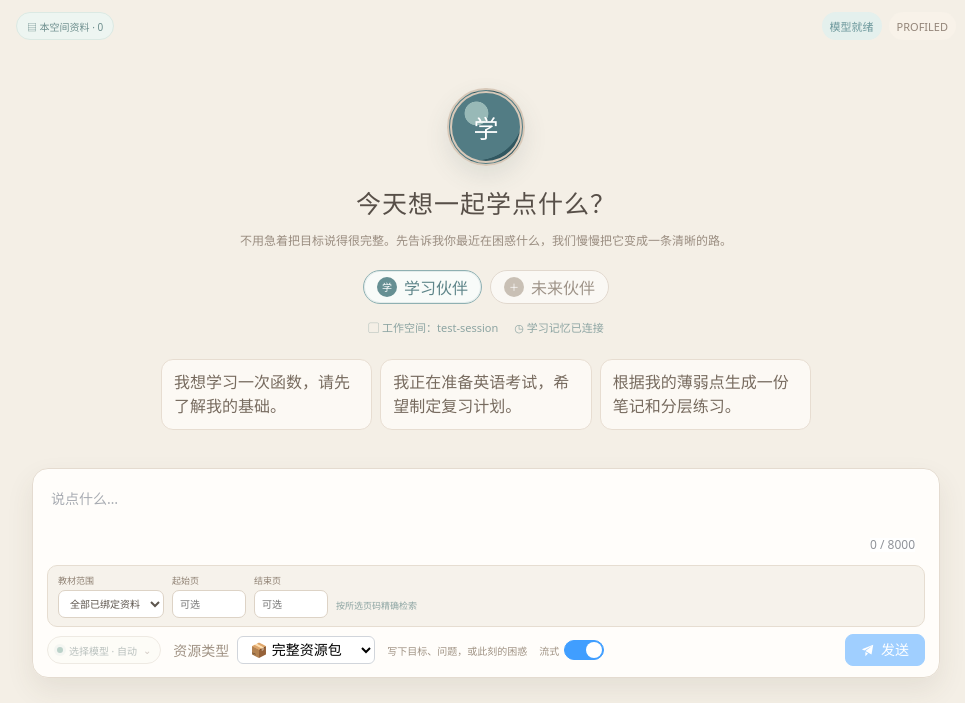
Test: SmartTutor failure recovery › renders resource progress and the final bundle
In the text box with placeholder "说点什么…": x=486, y=520 left=47, top=482, right=925, bottom=557, type "生成资源"
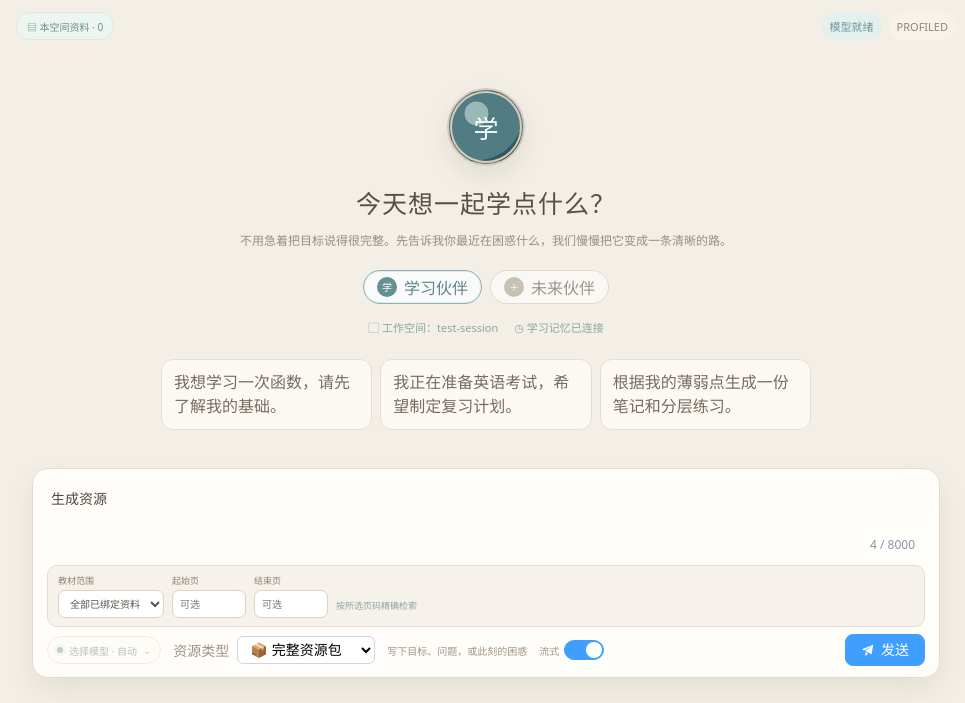
Click the button "发送": x=885, y=650 left=845, top=634, right=925, bottom=666
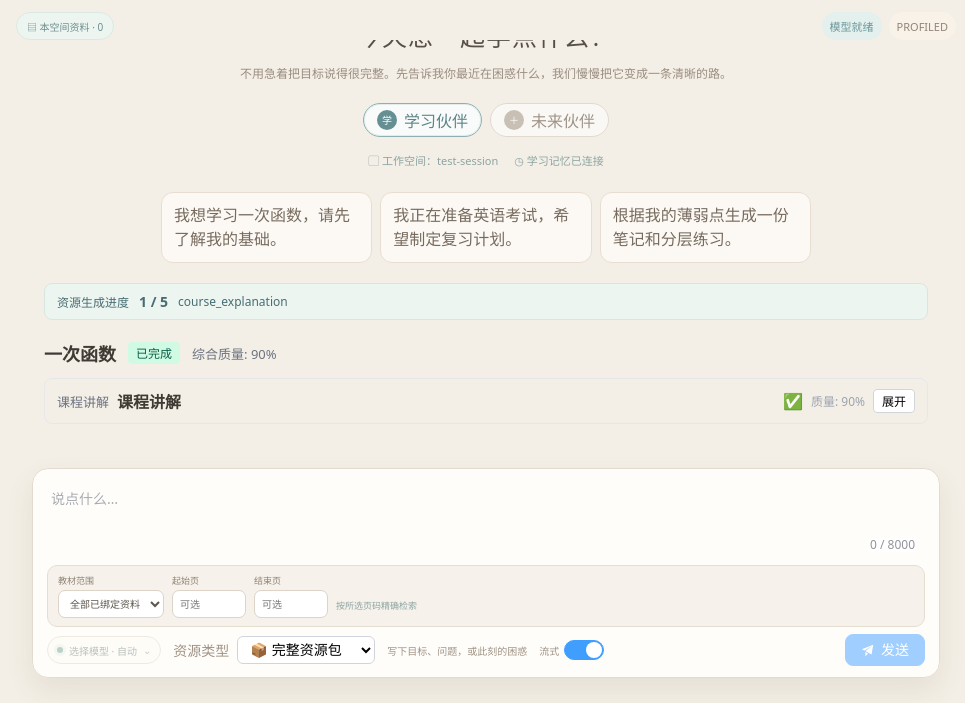
Now the text "1 / 5" is shown, box left=139, top=292, right=168, bottom=311
Now the element with class "resource-bundle" is shown, box left=44, top=328, right=928, bottom=444
